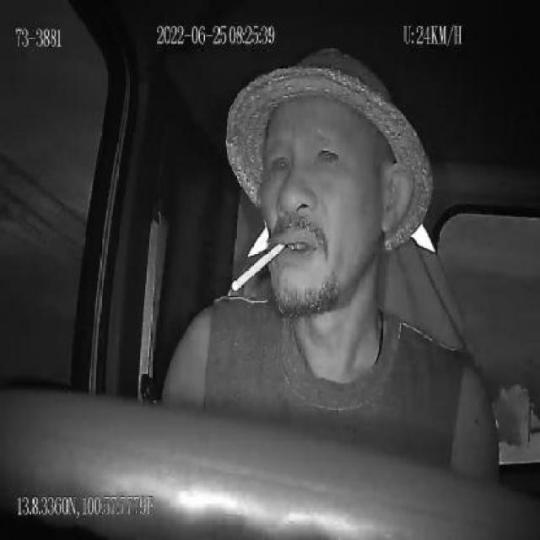smoking: (232, 241, 286, 290)
